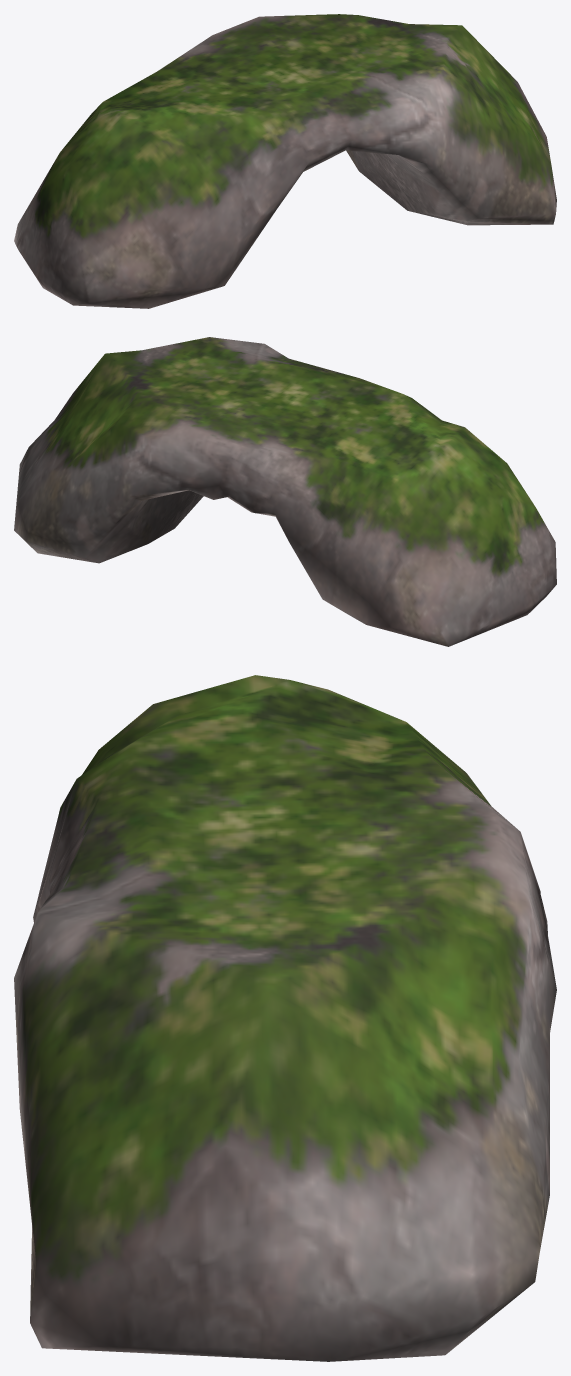
Rendered from land_rock_04.fbx.
3 renders of one model, top to bottom at view 1: azimuth 30°, elevation 25°; view 2: azimuth 150°, elevation 25°; view 3: azimuth 270°, elevation 25°, orthographic. The views are drawn at different scales.
Parts seen in each view (by area): view 1: land_rock_04; view 2: land_rock_04; view 3: land_rock_04.
Part boxes in pixels (x1,y1,x2,y2): land_rock_04: [14, 14, 556, 308]; land_rock_04: [14, 337, 556, 646]; land_rock_04: [14, 675, 556, 1361].
Bounding box in the file's own units: 24.35 × 8.25 × 11.59.
